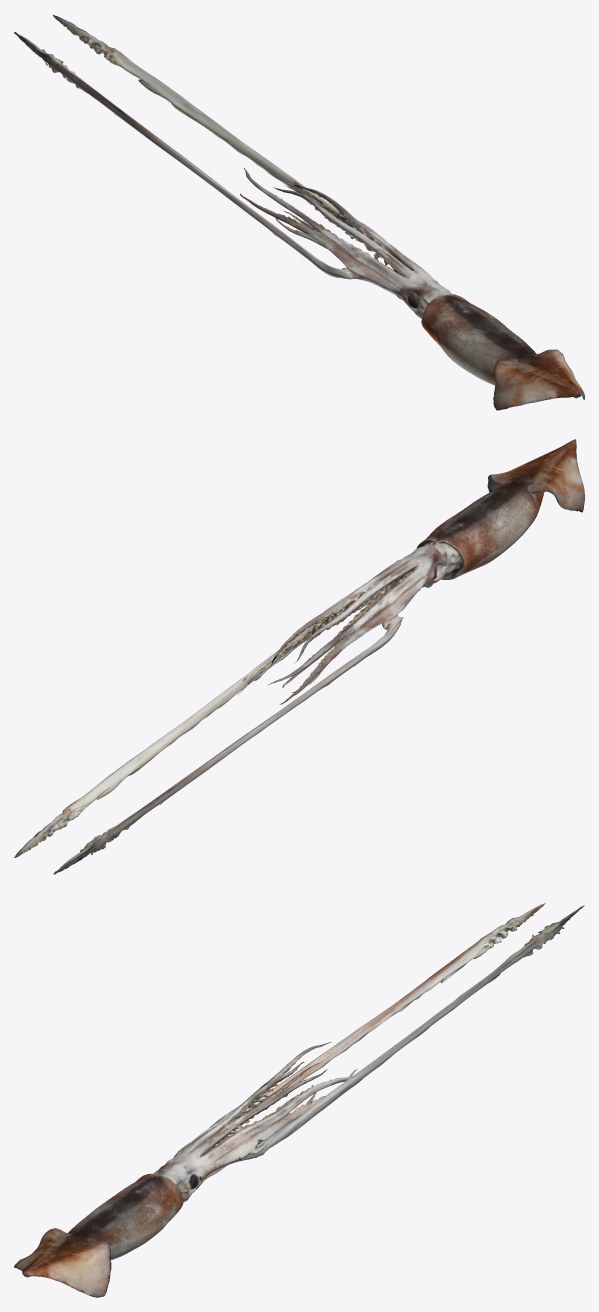
File: squid.glb
3 renders of one model, top to bottom at view 1: azimuth 30°, elevation 25°; view 2: azimuth 150°, elevation 25°; view 3: azimuth 330°, elevation 25°, orthographic.
Visible parts, largest first — view 1: squid; view 2: squid; view 3: squid.
Part boxes in pixels (x1,y1,x2,y2): squid: (14,14,584,410); squid: (14,439,584,874); squid: (14,903,584,1297).
Size of the model in its own units: 0.9363 by 0.4993 by 10.02.
Materials: 1 (1 with a texture image).
